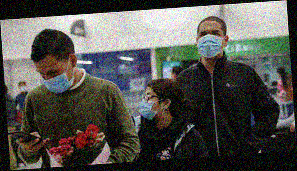with_mask: (36, 65, 74, 98), (196, 28, 226, 60), (139, 90, 166, 121), (19, 82, 27, 94)
